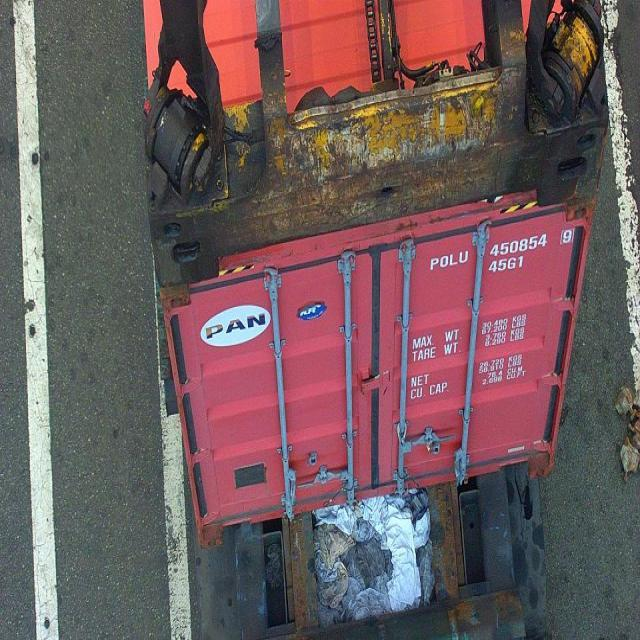ISO: (488, 254, 524, 275)
container_number: (426, 224, 574, 271)
